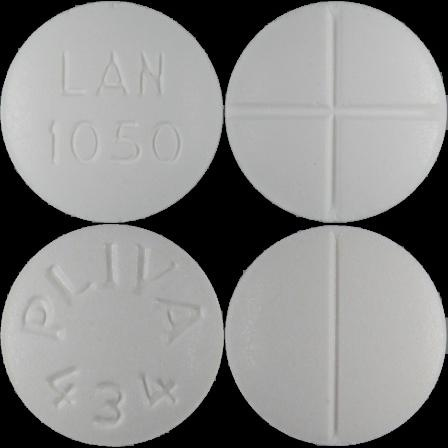54868-1195: (0, 0, 224, 224)
